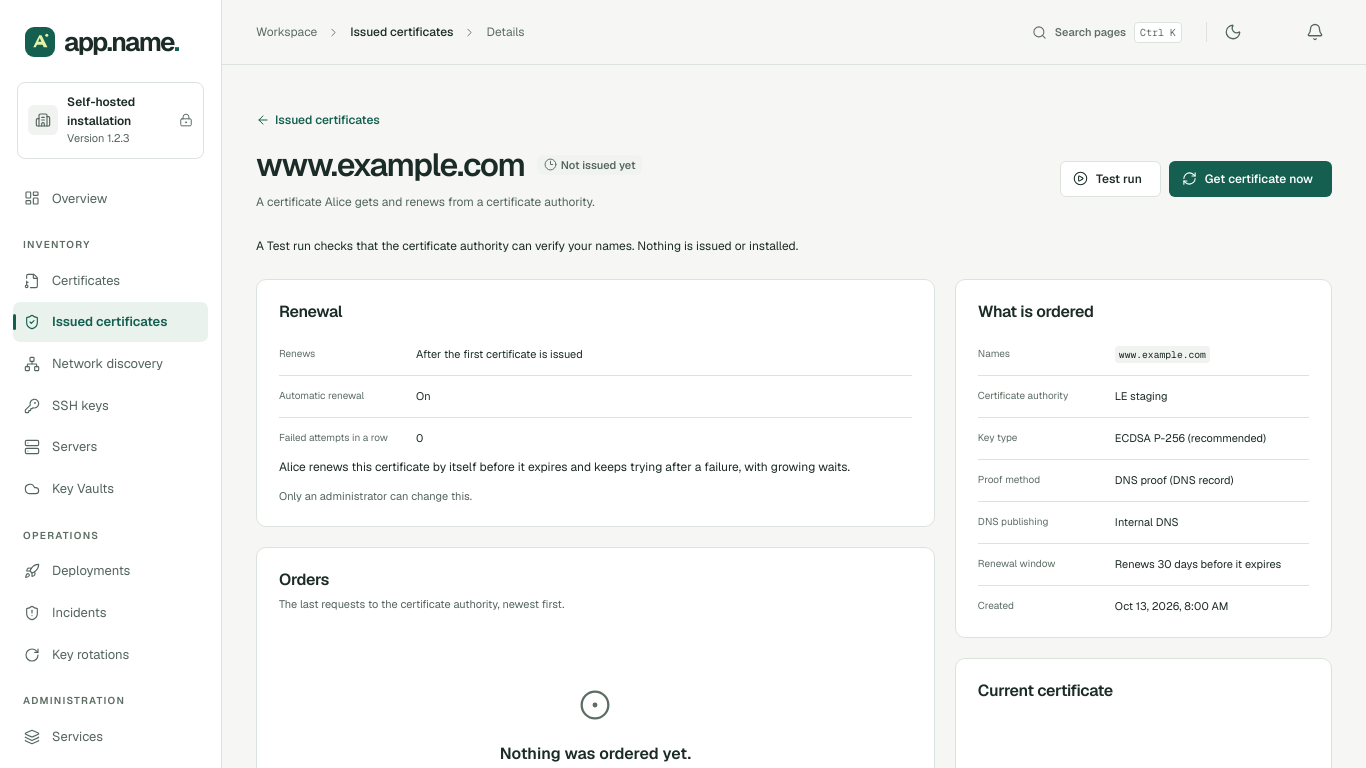
Test: Issued certificate status page › following a running order › runs a Test run and reports that the names were verified, nothing issued
Click the button "Test run": click(1110, 179) 1060,161 -> 1161,197
Wait 6200 ms
(page scrolled)
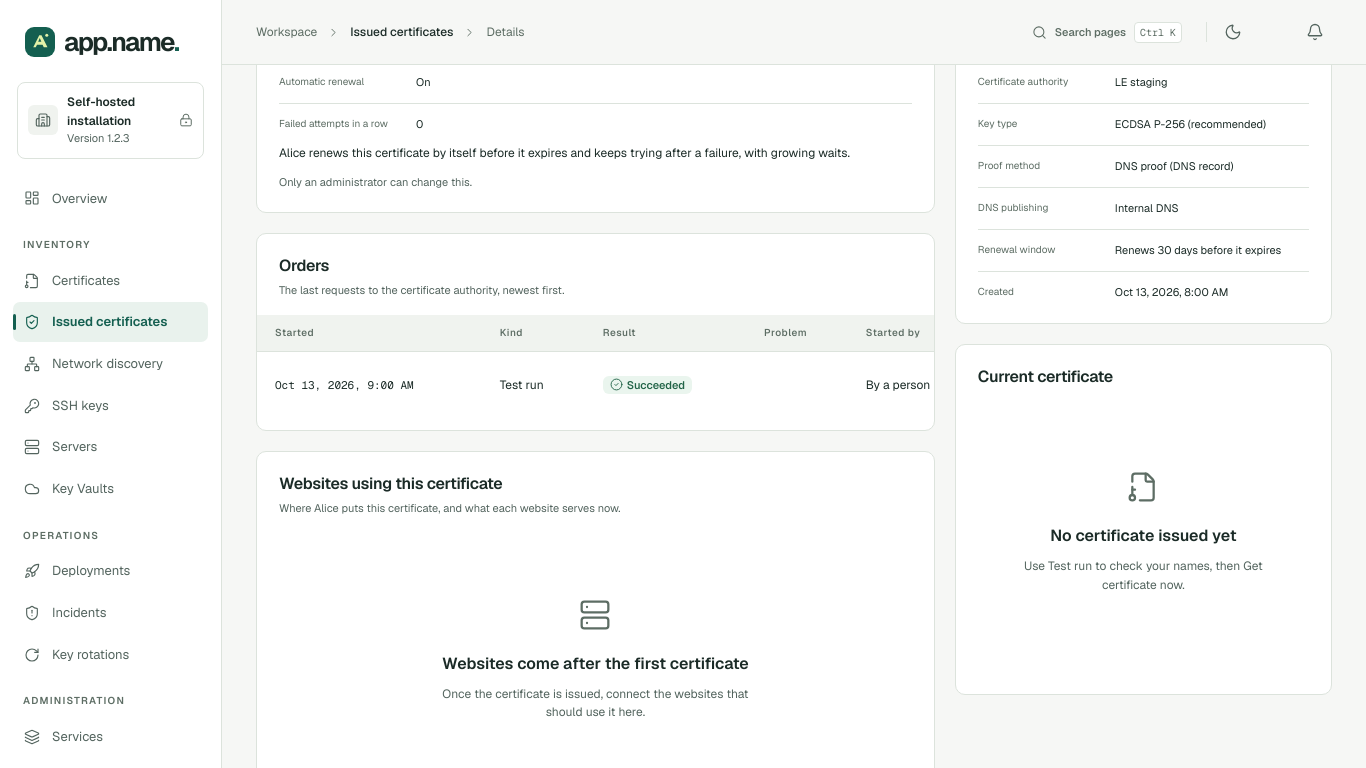
Now the text "Test run" is shown, box 482,351 -> 585,418
